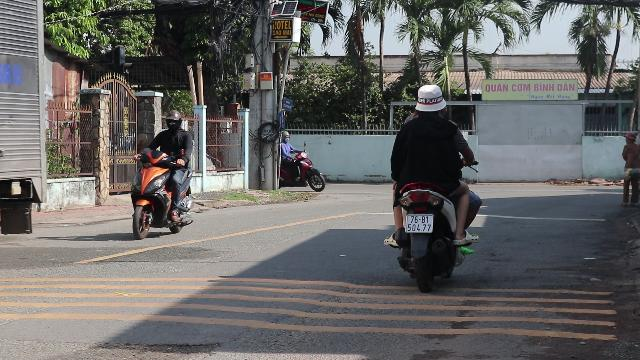helmet: (165, 110, 183, 132)
licenseplate: (406, 214, 432, 232)
motorcyclist: (382, 82, 482, 284), (127, 109, 197, 239)
nohelmet: (414, 84, 446, 116)
